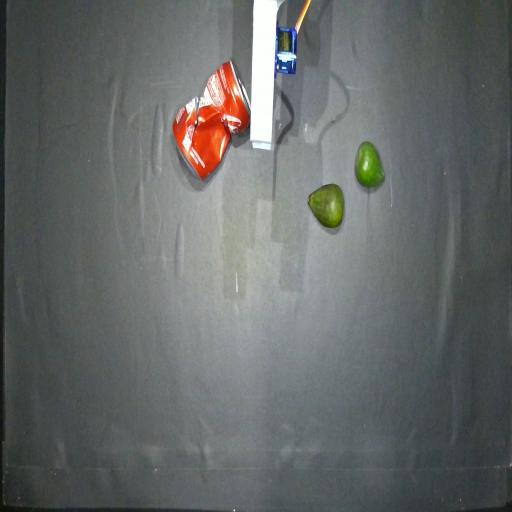higo: (307, 183, 344, 228), (355, 141, 385, 188)
lata_defectuoso: (173, 60, 250, 179)
